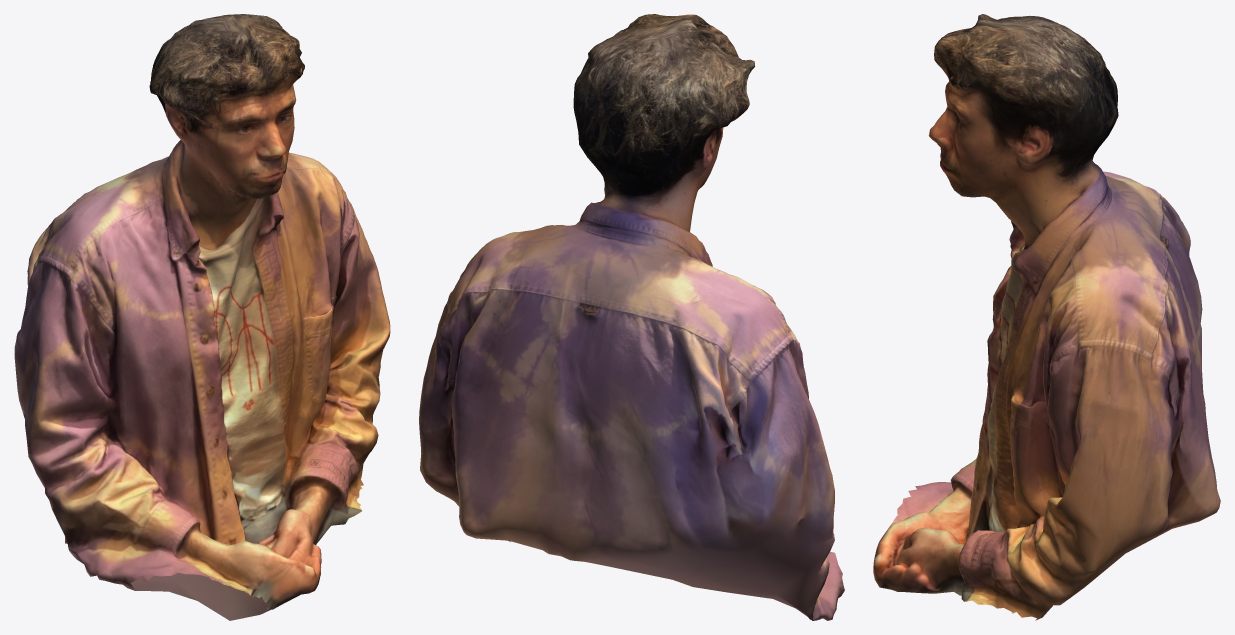
3 renders of one model, left to right at view 1: azimuth 30°, elevation 25°; view 2: azimuth 150°, elevation 25°; view 3: azimuth 270°, elevation 25°, orthographic. The views are drawn at different scales.
Parts seen in each view (by area): view 1: ObjectCapture; view 2: ObjectCapture; view 3: ObjectCapture.
Part boxes in pixels (left/top/right/bottom): ObjectCapture: left=14, top=14, right=390, bottom=620; ObjectCapture: left=419, top=14, right=844, bottom=620; ObjectCapture: left=873, top=14, right=1220, bottom=620.
Size of the model in its own units: 0.6203 by 0.894 by 0.4857.
Materials: 1 (1 with a texture image).
